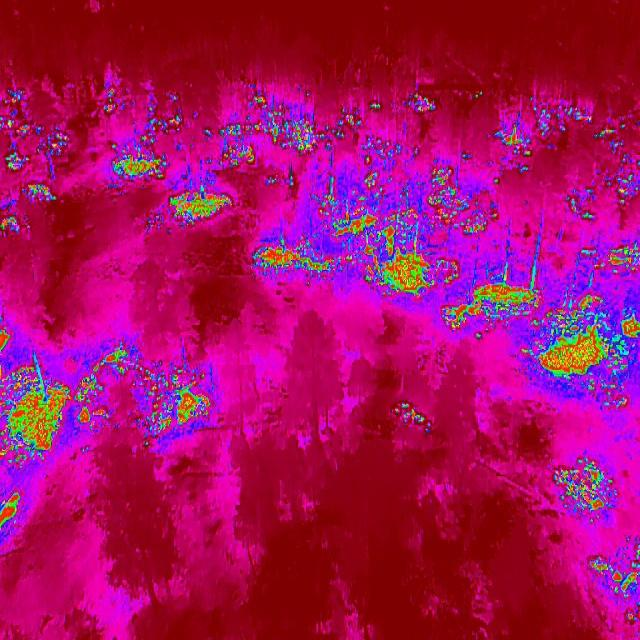fire: (252, 162, 549, 352), (74, 342, 230, 456), (206, 84, 352, 184), (521, 290, 639, 410), (106, 80, 202, 194), (0, 86, 70, 242), (0, 364, 73, 472), (588, 529, 640, 630), (552, 456, 616, 525), (596, 116, 640, 207), (578, 230, 640, 290), (532, 92, 596, 139), (162, 187, 236, 227), (391, 398, 439, 442), (486, 109, 529, 153), (560, 180, 600, 226), (0, 482, 26, 540), (402, 84, 444, 118), (0, 320, 15, 360), (366, 98, 388, 119), (466, 88, 491, 104)
